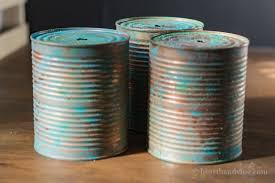Tin: (19, 4, 270, 170)
